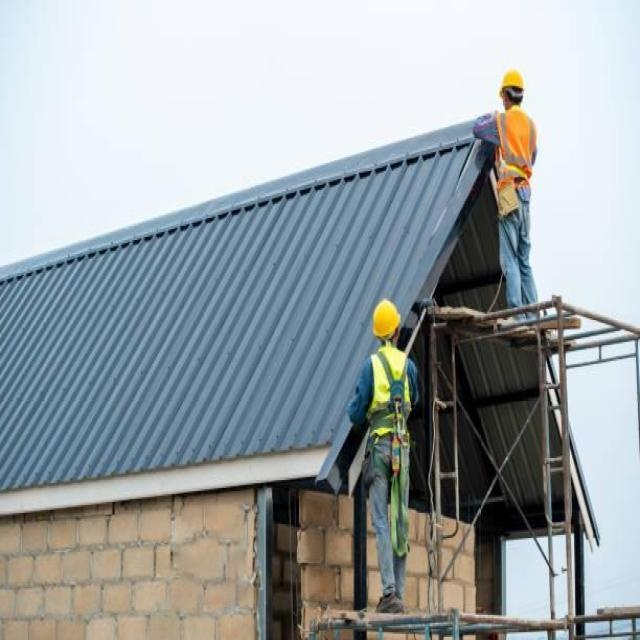Arnes_seguridad: (372, 347, 411, 474)
